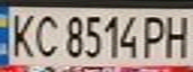1: (100, 12, 121, 60)
4: (118, 12, 142, 60)
5: (81, 11, 103, 60)
8: (60, 11, 84, 60)
C: (30, 11, 63, 58)
H: (160, 11, 193, 58)
K: (3, 10, 39, 60)
P: (139, 12, 172, 60)
